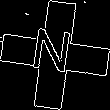N_S: (32, 27, 78, 83)
